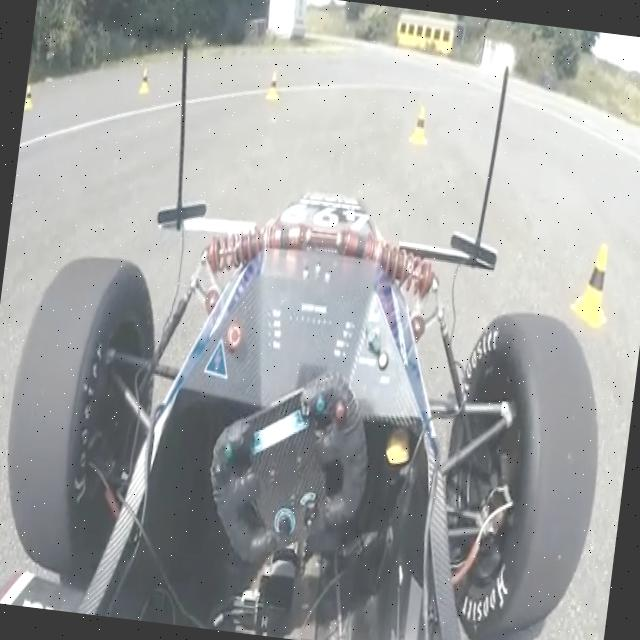yellow_cone: (568, 240, 616, 330), (408, 104, 432, 146), (265, 68, 283, 102), (138, 66, 152, 94), (23, 82, 34, 111)
